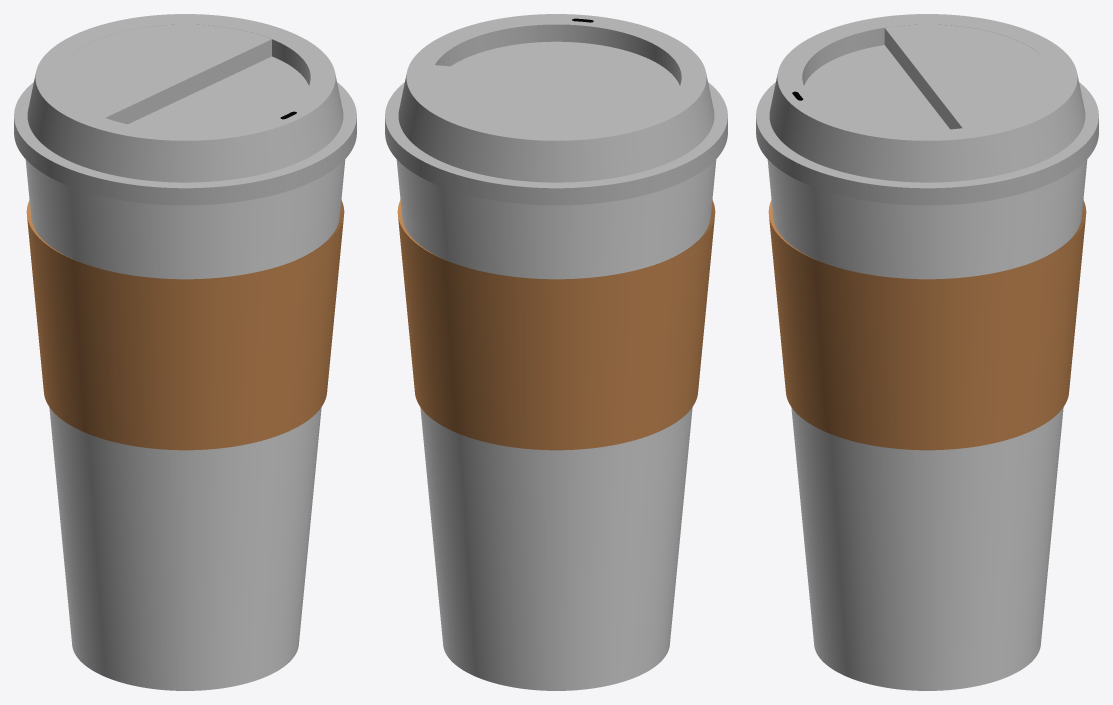
File: uploads-files-829024-coffeewithlid.fbx
The picture shows the model from 3 angles, left to right: view 1: azimuth 30°, elevation 25°; view 2: azimuth 150°, elevation 25°; view 3: azimuth 270°, elevation 25°; orthographic projection.
Visible parts, largest first — view 1: Coffee, Cup lid; view 2: Coffee, Cup lid; view 3: Coffee, Cup lid.
Part boxes in pixels (x1=…): Coffee: x1=25, y1=159, x2=345, y2=690; Cup lid: x1=14, y1=14, x2=356, y2=205; Coffee: x1=396, y1=159, x2=716, y2=690; Cup lid: x1=385, y1=14, x2=727, y2=205; Coffee: x1=767, y1=159, x2=1087, y2=690; Cup lid: x1=756, y1=14, x2=1098, y2=205.
Size of the model in its own units: 210 by 382 by 210.
